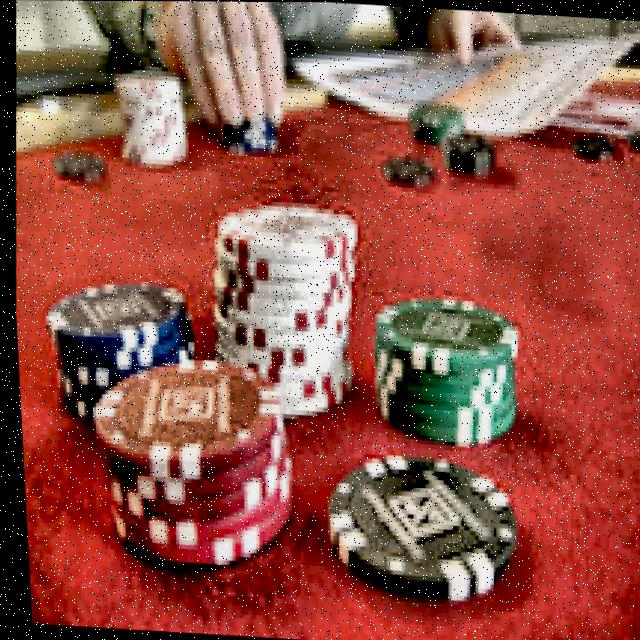Chip: (74, 336, 311, 577), (191, 199, 373, 428), (307, 442, 533, 618), (30, 266, 203, 432), (358, 297, 529, 451)
